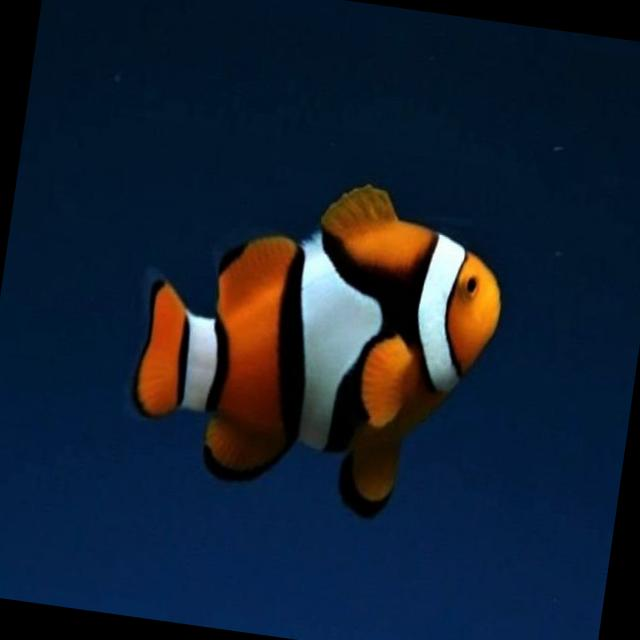ClownFish: (116, 155, 516, 536)
